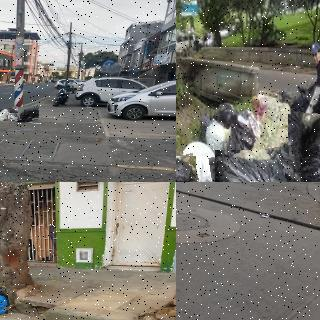Garbage: (211, 146, 311, 182), (286, 113, 320, 182), (226, 120, 253, 162), (176, 154, 197, 182), (212, 102, 237, 124), (18, 106, 39, 119), (0, 108, 10, 121), (8, 113, 19, 120)
